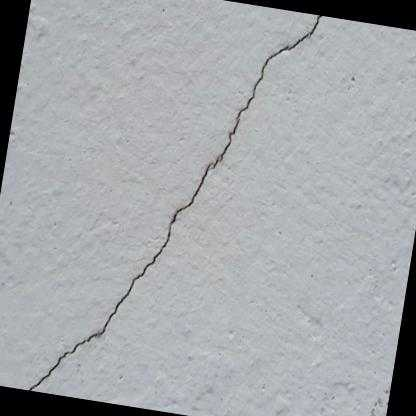crack: (27, 15, 324, 391)
